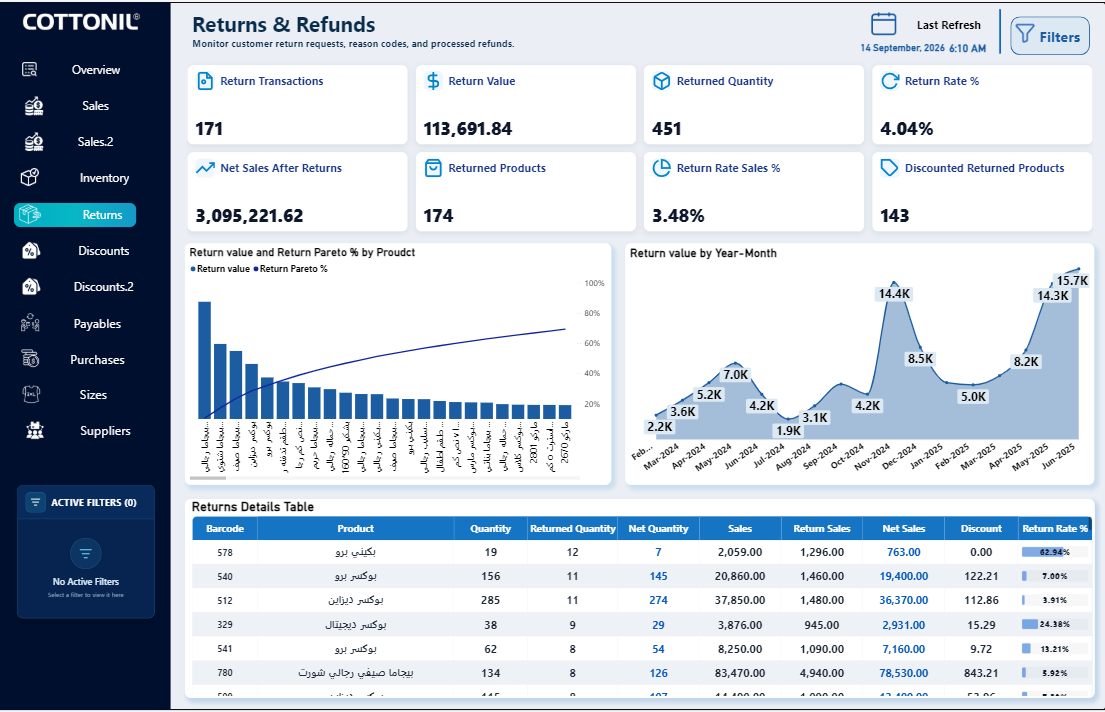

What the dashboard file says about the page in this screenshot:
{"tool":"powerbi","page":{"name":"Returns Analysis","canvas":[2492,1595],"ordinal":7},"visuals":[{"type":"image","box":[1927.5,7.9,122,80],"z":0,"group":"g9"},{"type":"actionButton","box":[415,13,469.2,59.9],"z":0,"group":"g17"},{"type":"shape","box":[2276,32,179,87],"z":0,"group":"g11"},{"type":"card","fields":{"Values":["Min(Refresh Date.Date)"]},"box":[1927.5,71.9,206,64],"z":0,"group":"g6"},{"type":"image","box":[30.5,127,67.3,48.7],"z":0,"group":"g8"},{"type":"group","id":"g1","title":"Group 1","box":[15,208.1,336.5,48.7],"z":0,"group":"g20"},{"type":"image","box":[15,210,121.7,46.7],"z":0,"group":"g1"},{"type":"image","box":[15,291.2,121.7,45.7],"z":0,"group":"g7"},{"type":"group","id":"g2","title":"Group 2","box":[15,370.4,336.5,48.7],"z":0,"group":"g10"},{"type":"image","box":[15,370.4,101.9,48.7],"z":0,"group":"g2"},{"type":"group","id":"g3","title":"Group 2","box":[18,451.5,323.3,52.7],"z":0,"group":"g19"},{"type":"image","box":[18,451.5,97.9,52.7],"z":0,"group":"g3"},{"type":"group","id":"g4","title":"Group 2","box":[21.3,532.6,323.3,52.7],"z":0,"group":"g12"},{"type":"image","box":[21.3,532.6,97.9,52.7],"z":0,"group":"g4"},{"type":"areaChart","fields":{"Category":["Dim_Date.Year-Month"],"Y":["Dax_Meausres.Return value"]},"box":[1408,544,1056,544],"z":0},{"type":"group","id":"g5","title":"Group 2","box":[21.3,613.8,323.3,52.7],"z":0,"group":"g13"},{"type":"image","box":[21.3,613.8,97.9,52.7],"z":0,"group":"g5"},{"type":"image","box":[16.9,694.9,97.9,52.7],"z":0,"group":"g14"},{"type":"image","box":[16.9,776,97.9,52.7],"z":0,"group":"g15"},{"type":"image","box":[18.9,857.1,103.7,52.7],"z":0,"group":"g16"},{"type":"image","box":[27.7,938.3,97.9,52.7],"z":0,"group":"g18"},{"type":"image","box":[2272,41,72,60],"z":1000,"group":"g11"},{"type":"actionButton","box":[389,68,1000,49],"z":1000,"group":"g17"},{"type":"group","id":"g6","title":"Group 7","box":[1927.5,70.7,320,65.2],"z":1000,"group":"g9"},{"type":"card","fields":{"Values":["Min(Refresh Date.Time)"]},"box":[2105.3,70.7,142.2,64],"z":1000,"group":"g6"},{"type":"actionButton","box":[64.1,127,302.8,48.7],"z":1000,"group":"g8"},{"type":"actionButton","box":[77.7,208.1,273.8,46.7],"z":1000,"group":"g1"},{"type":"group","id":"g7","title":"Group 1","box":[15,289.3,336.5,48.7],"z":1000,"group":"g20"},{"type":"actionButton","box":[77.7,289.3,273.8,48.7],"z":1000,"group":"g7"},{"type":"actionButton","box":[118.5,370.4,233,47.7],"z":1000,"group":"g2"},{"type":"actionButton","box":[117.5,451.5,223.9,51.7],"z":1000,"group":"g3"},{"type":"actionButton","box":[120.8,532.6,223.9,51.7],"z":1000,"group":"g4"},{"type":"lineClusteredColumnComboChart","fields":{"Category":["Dim_Product.Proudct"],"Y":["Dax_Meausres.Return value"],"Y2":["Dax_Meausres.Return Pareto %"]},"box":[416,544,960,544],"z":1000},{"type":"actionButton","box":[120.8,613.8,223.9,51.7],"z":1000,"group":"g5"},{"type":"actionButton","box":[90.5,696.9,255,51.7],"z":1000,"group":"g14"},{"type":"actionButton","box":[90.5,778,255,51.7],"z":1000,"group":"g15"},{"type":"actionButton","box":[76.3,857.1,269.9,51.7],"z":1000,"group":"g16"},{"type":"actionButton","box":[113.6,938.3,243.2,51.7],"z":1000,"group":"g18"},{"type":"actionButton","box":[2037.1,24,194.1,53.3],"z":2000,"group":"g9"},{"type":"group","id":"g8","title":"Group 1","box":[30.5,127,336.5,48.7],"z":2000,"group":"g20"},{"type":"htmlContent443BE3AD55E043BF878BED274D3A6855","title":"Returns Details Table","fields":{"content":["Dax_Meausres.Returns Products HTML Table"]},"box":[416.6,1118.3,2048,448],"z":2000},{"type":"group","id":"g9","title":"Group 8","box":[1927.5,7.9,320,128],"z":3000},{"type":"group","id":"g10","title":"Group 1","box":[15,370.4,336.5,48.7],"z":3000,"group":"g20"},{"type":"group","id":"g11","title":"Group 13","box":[2272,32,192,96],"z":4000},{"type":"group","id":"g12","title":"Group 1","box":[21.3,532.6,323.3,52.7],"z":4000,"group":"g20"},{"type":"shape","box":[0,-5,384,1600],"z":5000},{"type":"group","id":"g13","title":"Group 1","box":[21.3,613.8,323.3,52.7],"z":5000,"group":"g20"},{"type":"htmlContent443BE3AD55E043BF878BED274D3A6855","fields":{"content":["Dax_Meausres.Button Shape"]},"box":[28,448,288,72],"z":6000},{"type":"group","id":"g14","title":"Group 2","box":[16.9,694.9,328.6,53.7],"z":6000,"group":"g20"},{"type":"shape","box":[2239.5,16.3,24,100],"z":7000},{"type":"group","id":"g15","title":"Group 2","box":[16.9,776,328.6,53.7],"z":7000,"group":"g20"},{"type":"htmlContent443BE3AD55E043BF878BED274D3A6855","fields":{"content":["Dax_Meausres.Returns Cards Grid"]},"box":[416,128,2048,416],"z":8000},{"type":"group","id":"g16","title":"Group 2","box":[18.9,857.1,327.3,52.7],"z":8000,"group":"g20"},{"type":"group","id":"g17","title":"Group 5","box":[389,13,1000,104],"z":9000},{"type":"group","id":"g18","title":"Group 2","box":[27.7,938.3,329.1,52.7],"z":9000,"group":"g20"},{"type":"image","box":[32,0,320,96],"z":10000},{"type":"group","id":"g19","title":"Group 1","box":[18,451.5,323.3,52.7],"z":10000,"group":"g20"},{"type":"group","id":"g20","title":"Group 4","box":[15,127,352,864],"z":11000},{"type":"htmlContent443BE3AD55E043BF878BED274D3A6855","fields":{"content":["Dax_Meausres.HTML Active Filter"]},"box":[32,1083,320,512],"z":12000}]}

Visuals, with their boxes on the page's 2492x1595 design canvas (x1, y1, x2, y2). These are canvas units, not pixel positions in the 1105x712 screenshot, which may show the page scaled, cropped or inside an application window:
image: l=1928, t=8, r=2050, b=88
actionButton: l=415, t=13, r=884, b=73
shape: l=2276, t=32, r=2455, b=119
card - Min(Refresh Date.Date): l=1928, t=72, r=2134, b=136
image: l=30, t=127, r=98, b=176
"Group 1" group: l=15, t=208, r=352, b=257
image: l=15, t=210, r=137, b=257
image: l=15, t=291, r=137, b=337
"Group 2" group: l=15, t=370, r=352, b=419
image: l=15, t=370, r=117, b=419
"Group 2" group: l=18, t=452, r=341, b=504
image: l=18, t=452, r=116, b=504
"Group 2" group: l=21, t=533, r=345, b=585
image: l=21, t=533, r=119, b=585
areaChart - Dim_Date.Year-Month x Dax_Meausres.Return value: l=1408, t=544, r=2464, b=1088
"Group 2" group: l=21, t=614, r=345, b=666
image: l=21, t=614, r=119, b=666
image: l=17, t=695, r=115, b=748
image: l=17, t=776, r=115, b=829
image: l=19, t=857, r=123, b=910
image: l=28, t=938, r=126, b=991
image: l=2272, t=41, r=2344, b=101
actionButton: l=389, t=68, r=1389, b=117
"Group 7" group: l=1928, t=71, r=2248, b=136
card - Min(Refresh Date.Time): l=2105, t=71, r=2248, b=135
actionButton: l=64, t=127, r=367, b=176
actionButton: l=78, t=208, r=352, b=255
"Group 1" group: l=15, t=289, r=352, b=338
actionButton: l=78, t=289, r=352, b=338
actionButton: l=118, t=370, r=352, b=418
actionButton: l=118, t=452, r=341, b=503
actionButton: l=121, t=533, r=345, b=584
lineClusteredColumnComboChart - Dim_Product.Proudct x Dax_Meausres.Return value: l=416, t=544, r=1376, b=1088
actionButton: l=121, t=614, r=345, b=666
actionButton: l=90, t=697, r=346, b=749
actionButton: l=90, t=778, r=346, b=830
actionButton: l=76, t=857, r=346, b=909
actionButton: l=114, t=938, r=357, b=990
actionButton: l=2037, t=24, r=2231, b=77
"Group 1" group: l=30, t=127, r=367, b=176
"Returns Details Table" htmlContent443BE3AD55E043BF878BED274D3A6855: l=417, t=1118, r=2465, b=1566
"Group 8" group: l=1928, t=8, r=2248, b=136
"Group 1" group: l=15, t=370, r=352, b=419
"Group 13" group: l=2272, t=32, r=2464, b=128
"Group 1" group: l=21, t=533, r=345, b=585
shape: l=0, t=-5, r=384, b=1595
"Group 1" group: l=21, t=614, r=345, b=666
htmlContent443BE3AD55E043BF878BED274D3A6855 - Dax_Meausres.Button Shape: l=28, t=448, r=316, b=520
"Group 2" group: l=17, t=695, r=346, b=749
shape: l=2240, t=16, r=2264, b=116
"Group 2" group: l=17, t=776, r=346, b=830
htmlContent443BE3AD55E043BF878BED274D3A6855 - Dax_Meausres.Returns Cards Grid: l=416, t=128, r=2464, b=544
"Group 2" group: l=19, t=857, r=346, b=910
"Group 5" group: l=389, t=13, r=1389, b=117
"Group 2" group: l=28, t=938, r=357, b=991
image: l=32, t=0, r=352, b=96
"Group 1" group: l=18, t=452, r=341, b=504
"Group 4" group: l=15, t=127, r=367, b=991
htmlContent443BE3AD55E043BF878BED274D3A6855 - Dax_Meausres.HTML Active Filter: l=32, t=1083, r=352, b=1595
